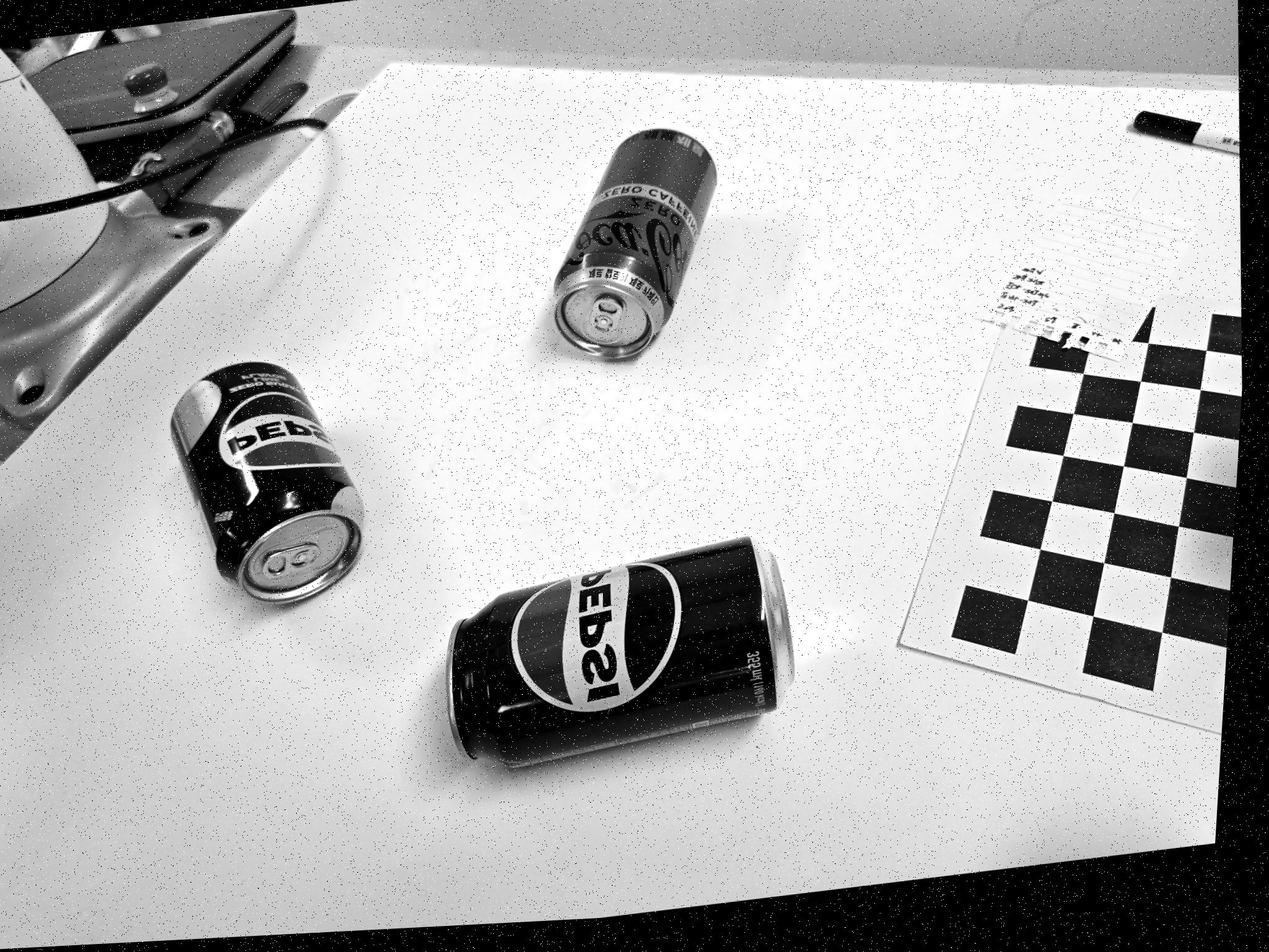can_coke_decaf: (553, 130, 720, 354)
can_pepsi: (440, 534, 801, 771)
can_pepsi_zero: (167, 360, 364, 606)
